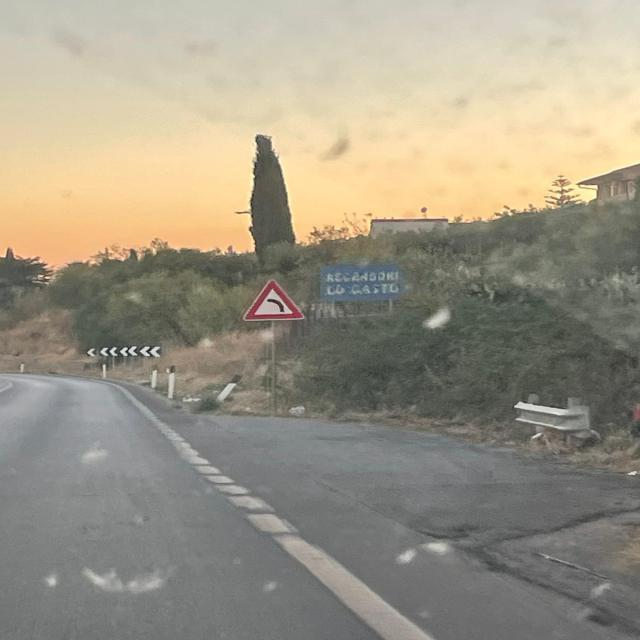warn_left_curve: (242, 278, 305, 322)
